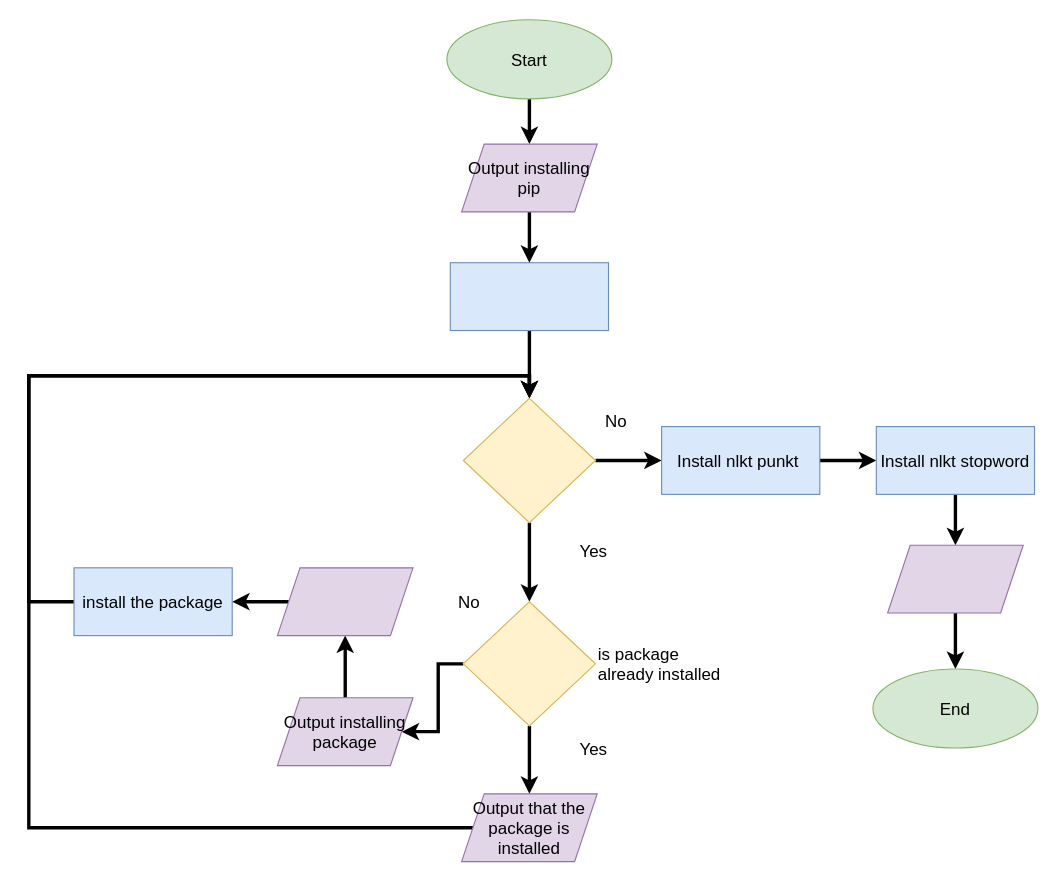
Image size: 1058x881. Some labels were removed from this diagram. Each missing label, with the centre of its shape:
Output all packages are installed: point 954,578
Output message saying it could take awhile: point 344,601
send each package name through loop. Is there any packages left: point 529,460
update the pythons pip interpreted: point 529,296
